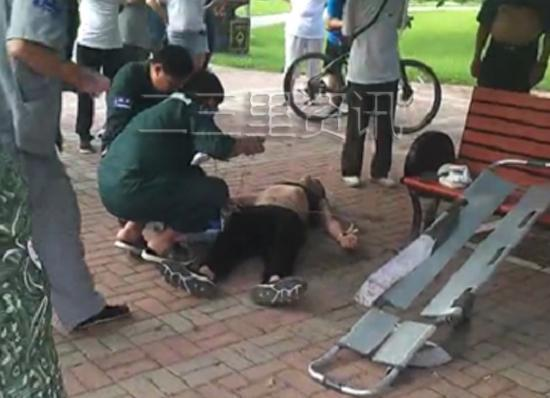Fall-Detected: (149, 160, 356, 310)
